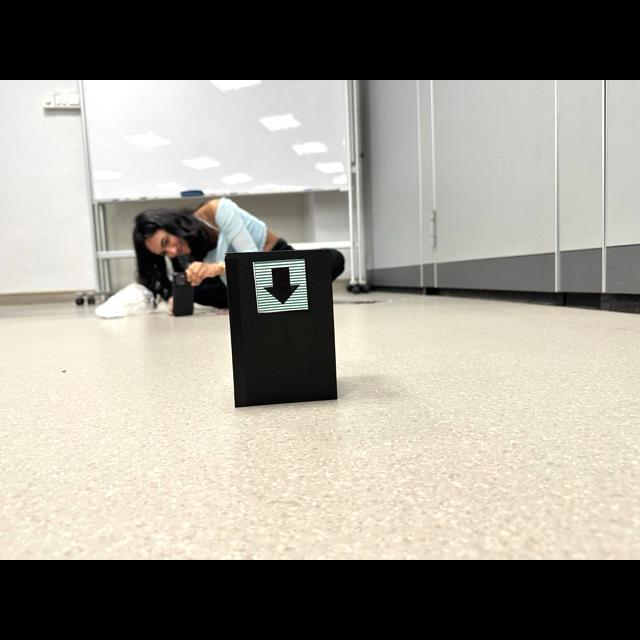DOWN: (263, 268, 300, 305)
